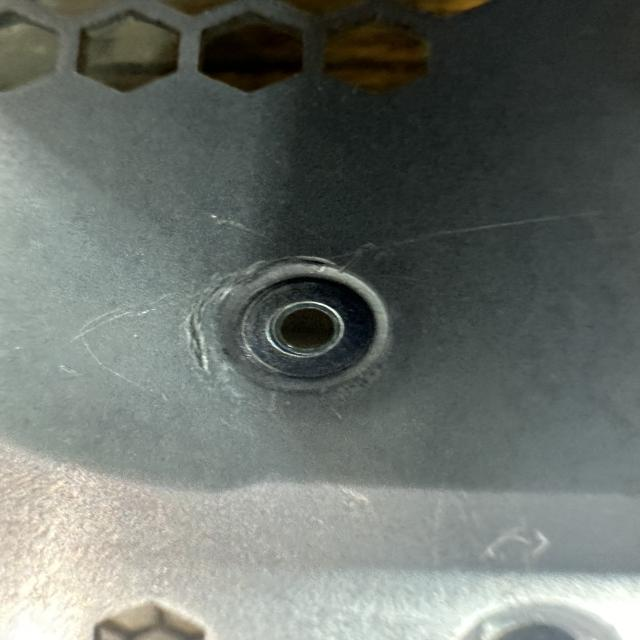Missing screw: (212, 264, 398, 389)
